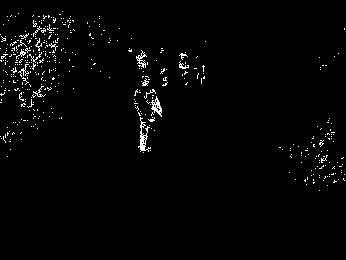person: (134, 75, 163, 153)
